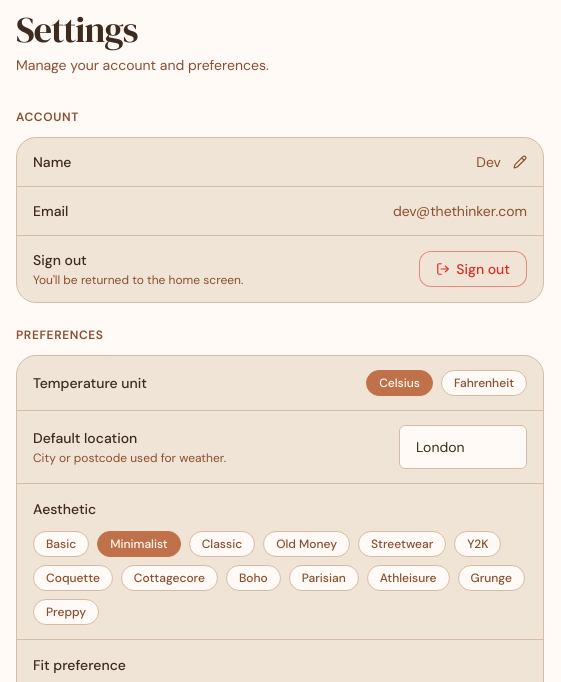
Test case: SettingsPage aesthetic preference (KAN-92) › reverts to the previous aesthetic and surfaces an error when the save fails
Click the button "Streetwear": (402, 544) [358,530,446,556]
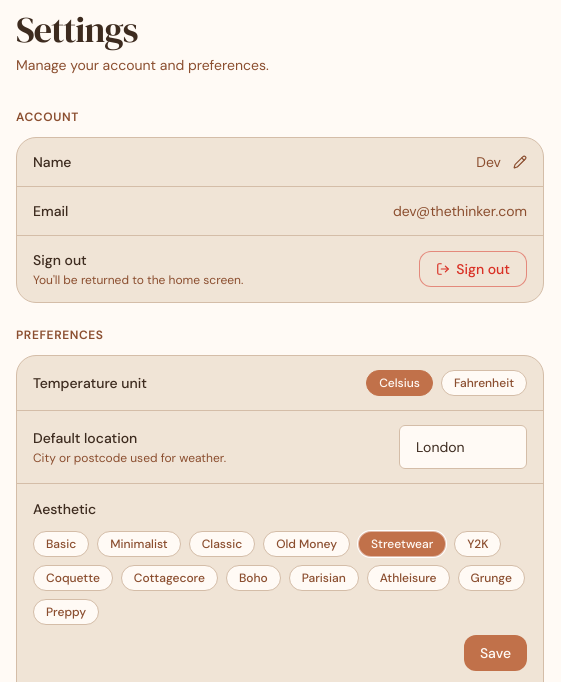
Click the button "Save": (495, 652) [464,634,527,670]
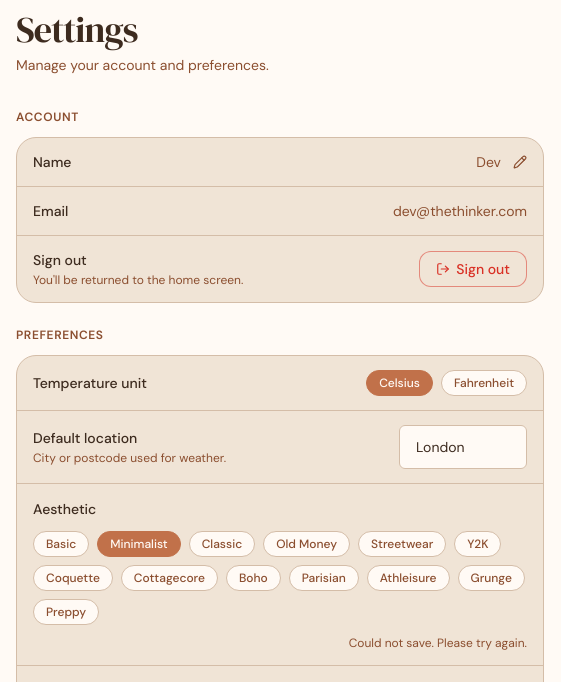
Now the text "Could not save. Please try again." is shown, box [349,634,527,650]
